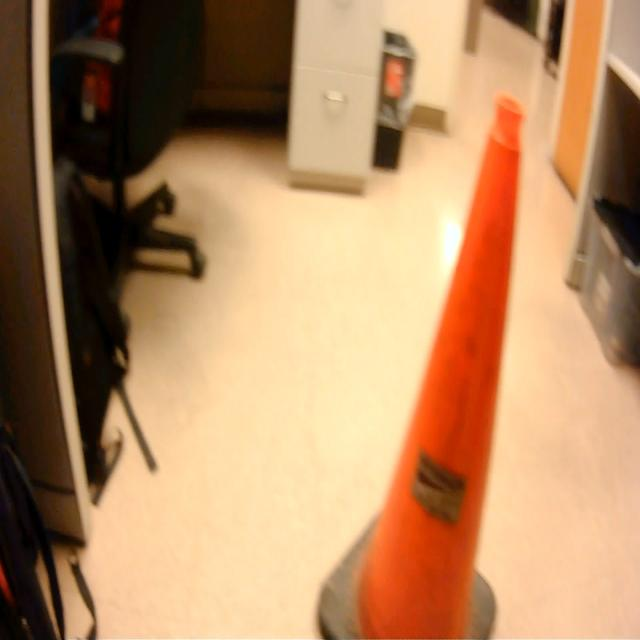traffic cone: (312, 80, 533, 640)
